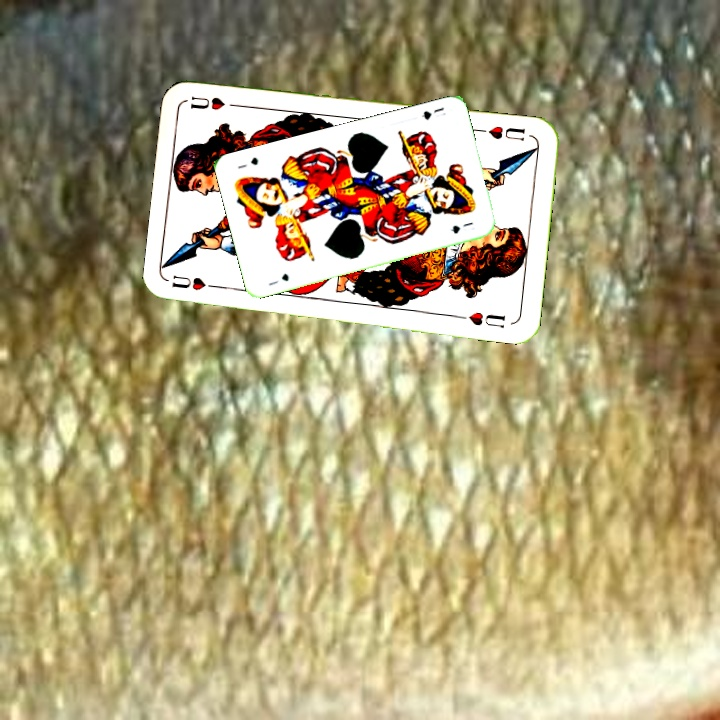GU: (417, 103, 449, 123), (265, 269, 291, 288)
HU: (168, 272, 226, 293), (485, 121, 528, 143)
